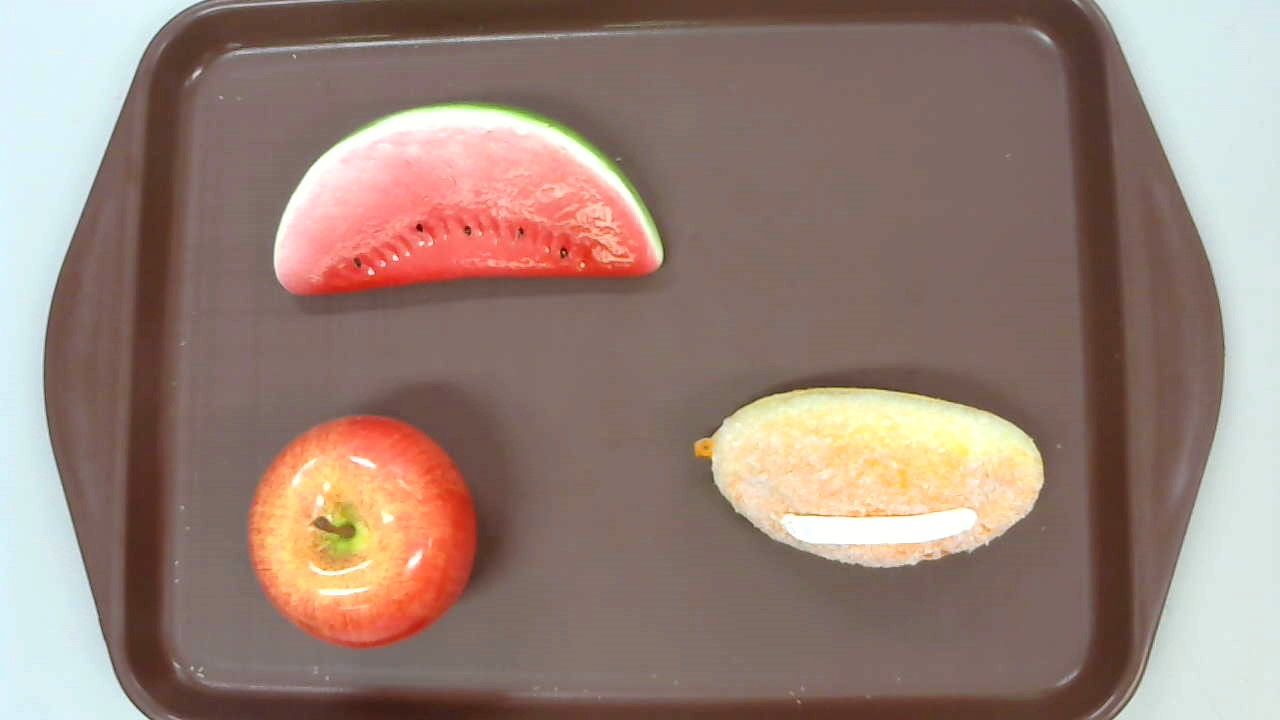coconut: (694, 386, 1043, 571)
red apple: (247, 413, 476, 651)
water melon: (272, 102, 665, 297)
